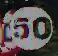Speed limit: (5, 5, 54, 51)
